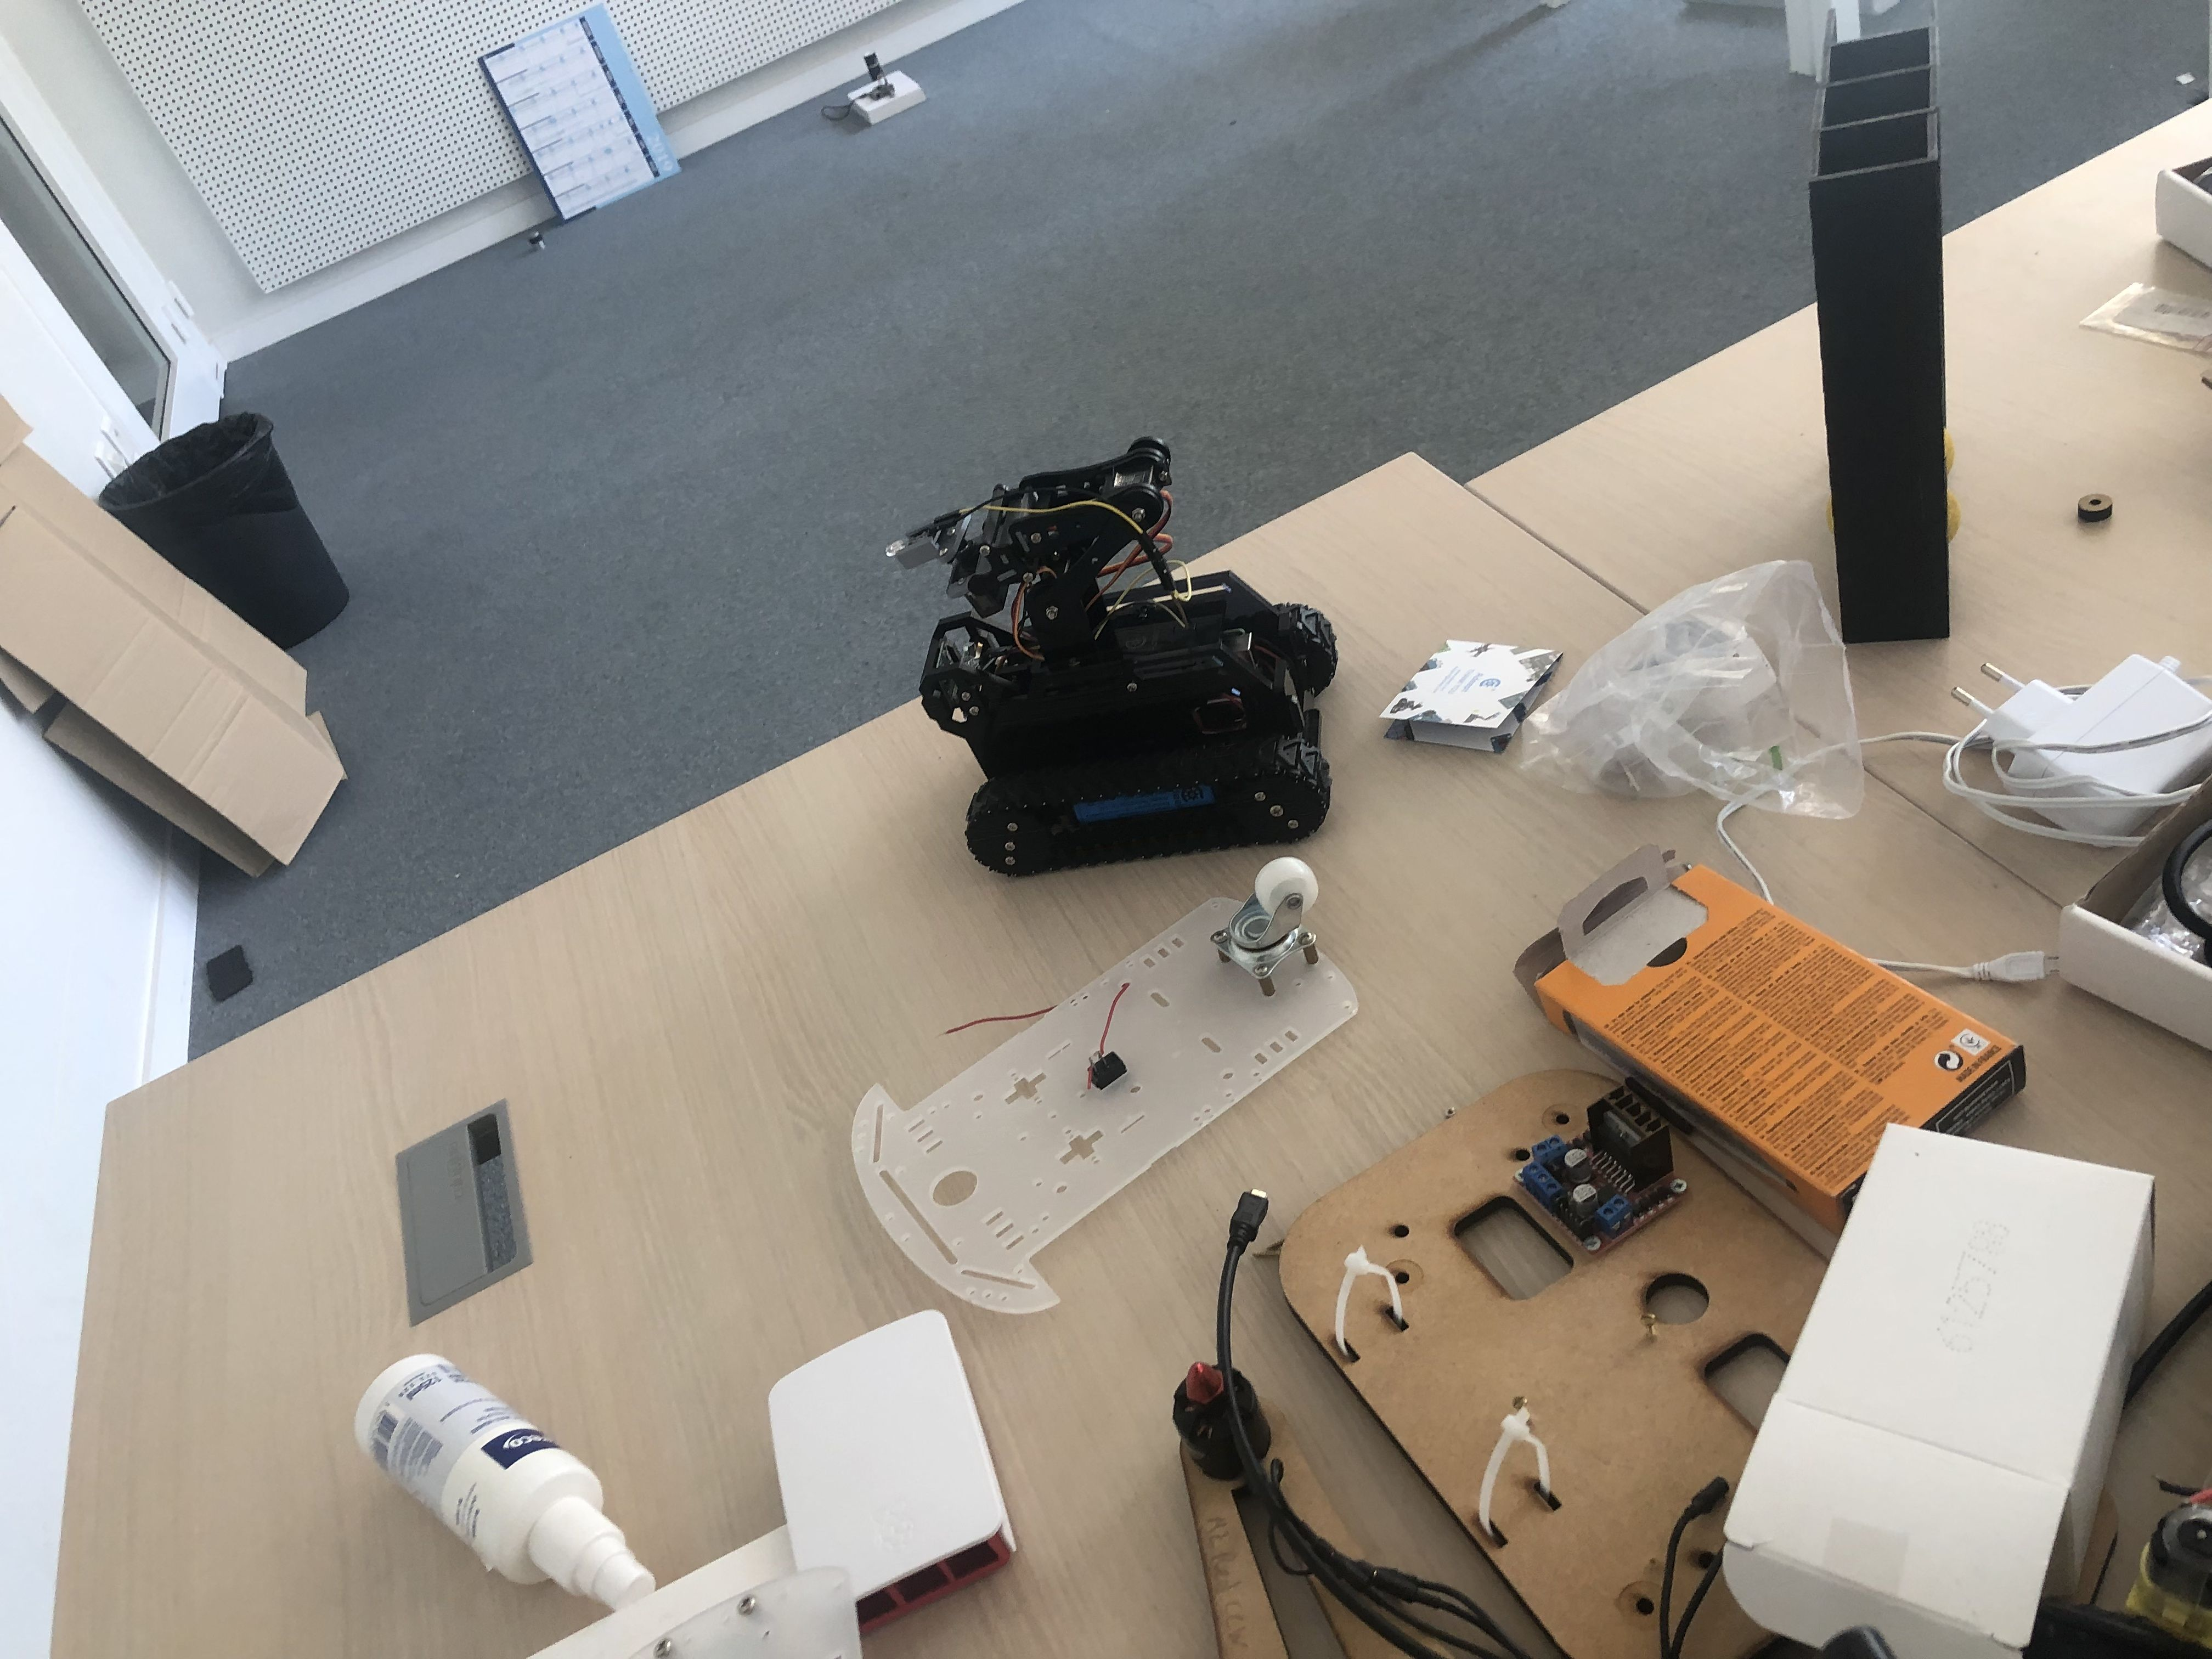rasptank: (883, 430, 1339, 915)
